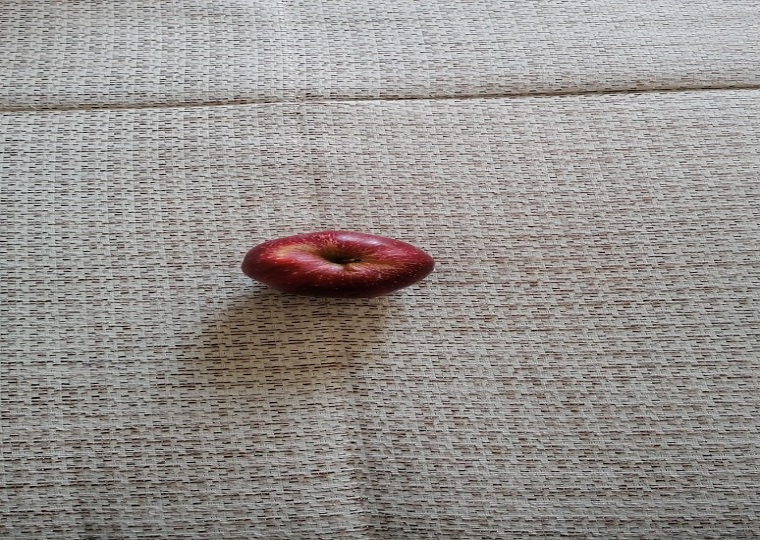elma: (241, 229, 437, 300)
